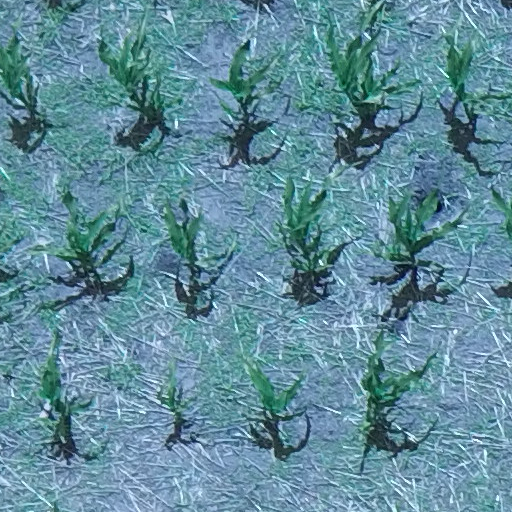planta: (325, 25, 422, 118), (22, 191, 123, 271), (371, 188, 467, 269), (98, 32, 182, 119), (275, 175, 344, 272), (208, 39, 283, 123), (360, 353, 436, 431), (34, 352, 91, 437), (243, 361, 304, 420), (160, 197, 201, 264), (156, 373, 195, 423)
